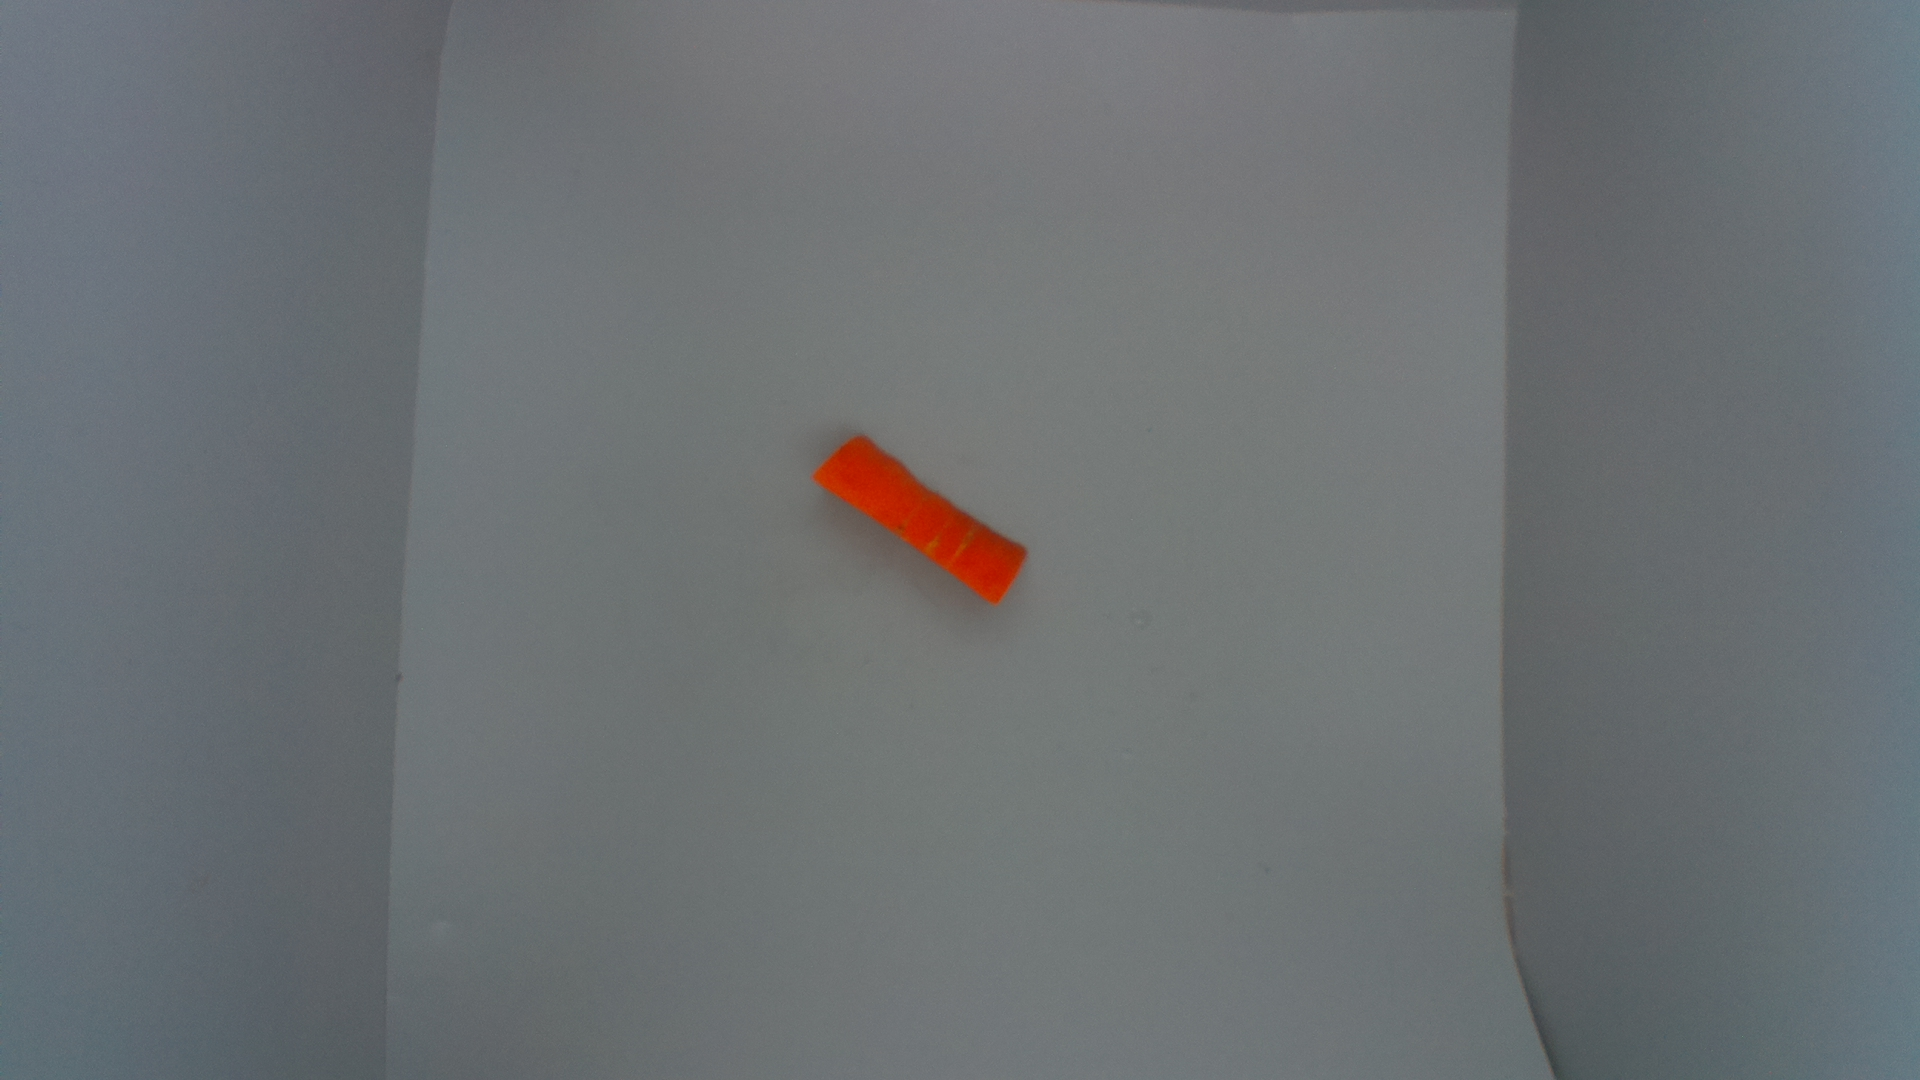carrot: (812, 431, 1029, 608)
